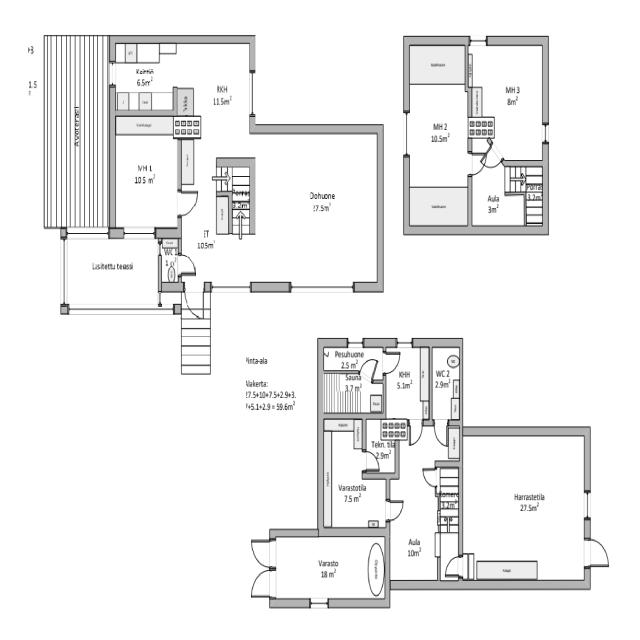door: (381, 344, 428, 419), (249, 536, 275, 570), (584, 536, 612, 567), (250, 561, 274, 597), (183, 286, 206, 321), (177, 188, 200, 216), (382, 349, 401, 377), (468, 150, 487, 177), (444, 553, 464, 578), (386, 498, 406, 521), (178, 252, 197, 276), (362, 448, 381, 472), (433, 420, 449, 448), (408, 420, 423, 448), (359, 356, 374, 384), (421, 465, 438, 489), (487, 144, 503, 169)
window: (290, 279, 356, 295), (208, 280, 253, 296), (59, 237, 68, 305), (121, 224, 157, 240), (66, 228, 110, 240), (247, 69, 257, 119), (401, 110, 411, 158), (582, 488, 592, 533), (308, 597, 330, 609), (109, 61, 118, 88), (469, 34, 489, 46), (541, 122, 551, 145), (395, 336, 414, 348), (346, 336, 365, 348)
zone: (459, 430, 588, 584), (254, 132, 379, 282), (112, 42, 252, 121), (469, 40, 547, 162), (406, 80, 470, 209), (270, 534, 390, 602), (114, 117, 180, 230), (324, 419, 385, 533), (469, 164, 531, 230), (322, 344, 384, 404), (383, 346, 431, 420), (363, 416, 405, 474), (430, 344, 460, 423), (408, 44, 467, 84), (438, 463, 460, 515), (172, 115, 205, 136)
